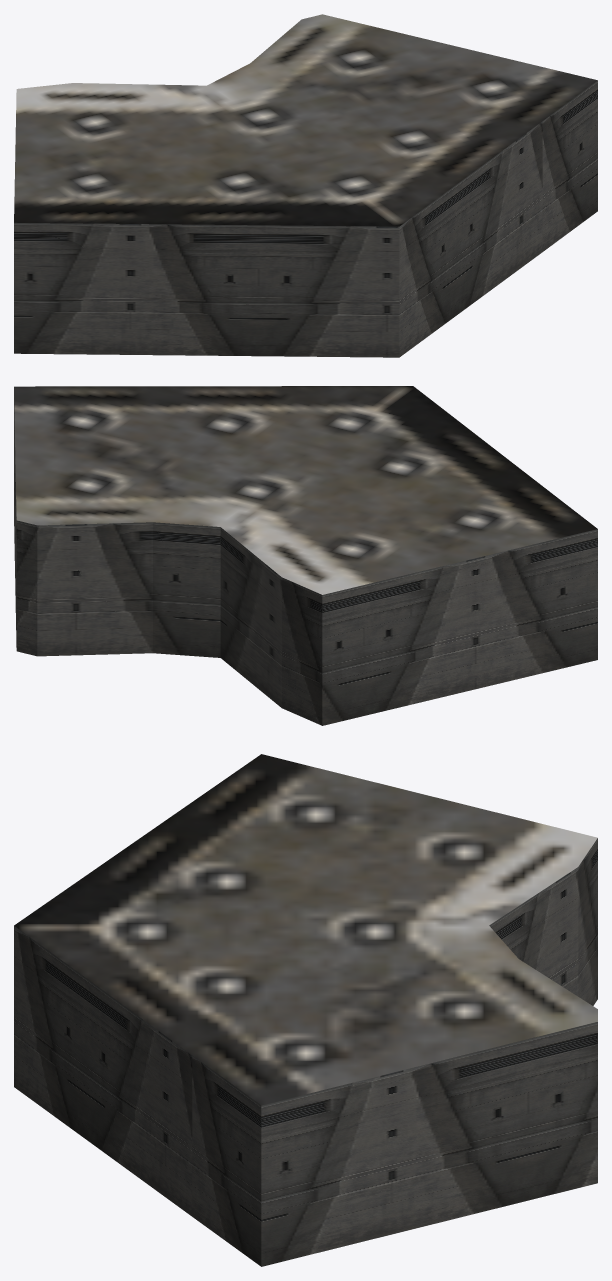
File: fortress_medium_34.glb
The picture shows the model from 3 angles, top to bottom: view 1: azimuth 30°, elevation 25°; view 2: azimuth 150°, elevation 25°; view 3: azimuth 270°, elevation 25°; orthographic projection. The views are drawn at different scales.
Parts seen in each view (by area): view 1: buildings/saxarba/fortress_medium/fortress_medium_34; view 2: buildings/saxarba/fortress_medium/fortress_medium_34; view 3: buildings/saxarba/fortress_medium/fortress_medium_34.
Part boxes in pixels (x1,y1,x2,y2): buildings/saxarba/fortress_medium/fortress_medium_34: (14,14,597,357); buildings/saxarba/fortress_medium/fortress_medium_34: (14,386,597,725); buildings/saxarba/fortress_medium/fortress_medium_34: (14,754,597,1266).
Size of the model in its own units: 84 by 18 by 59.
